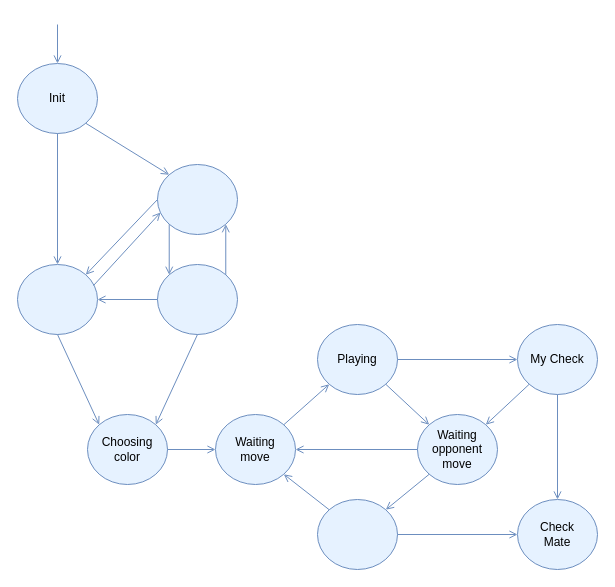
This 615x587 diagram has some shape labels left out. The shapes that lost their labels are listed below. From the top down, each one's centre as x and y in pixels, then its label:
At (x=197, y=199): "Wait".
At (x=57, y=299): "Invite other player".
At (x=197, y=299): "Receiving invitation".
At (x=357, y=534): "Opponent Check".
